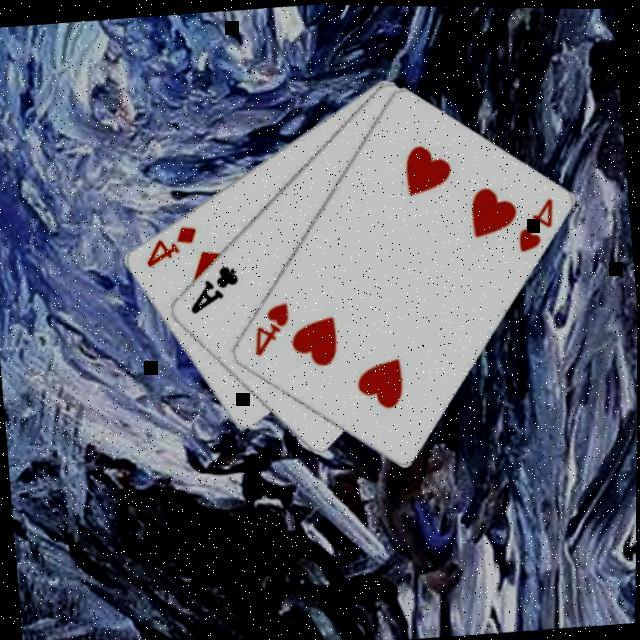4D: (140, 219, 203, 270)
4H: (512, 190, 561, 253), (248, 296, 296, 359)
AC: (185, 259, 245, 317)
